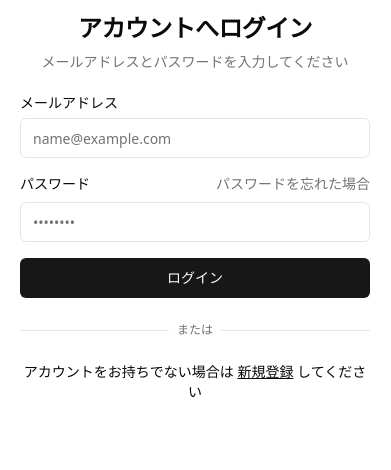
Test case: LoginForm › バリデーションエラーが表示されること
空の値でフォームを送信
Click the button "ログイン" at (195, 278), box [20,258,370,298]
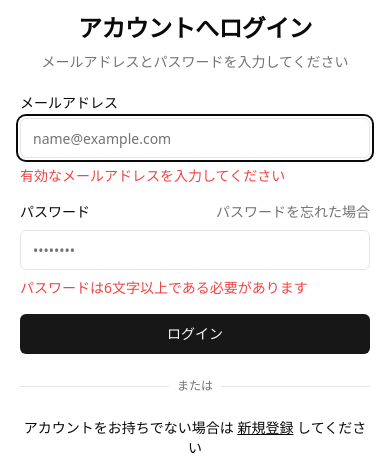
Expected: the text "有効なメールアドレスを入力してください" is shown, [20,166,285,185]
Expected: the text "パスワードは6文字以上である必要があります" is shown, [20,278,308,297]
